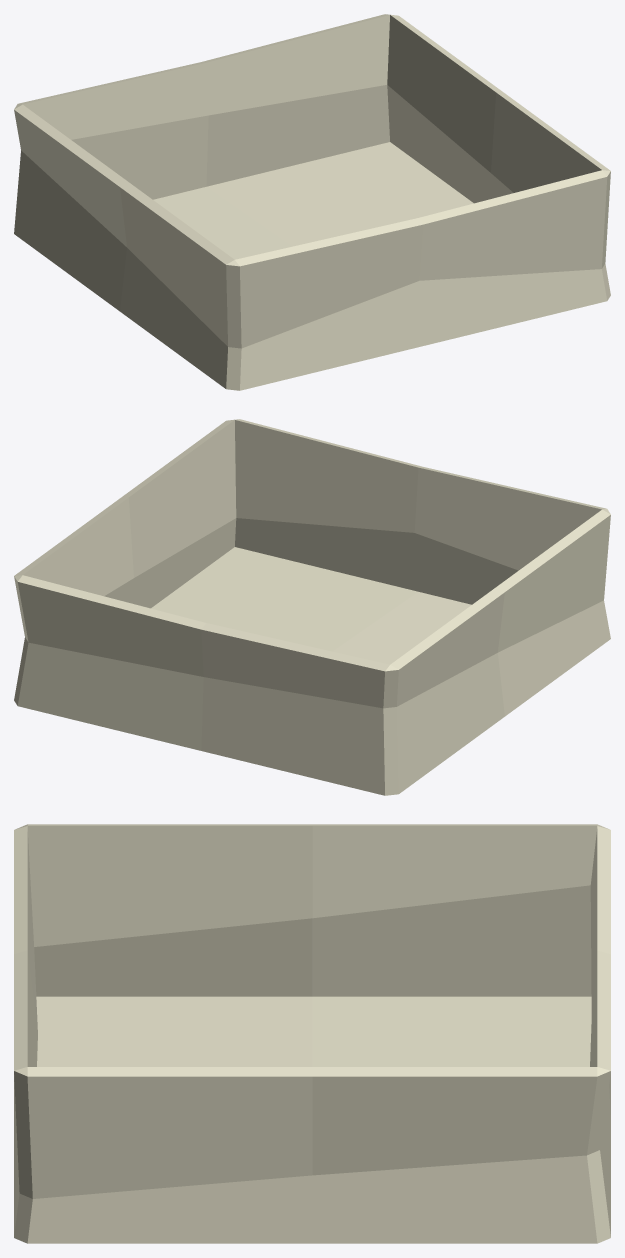
3 views of the same model, one above another, from view 1: azimuth 30°, elevation 25°; view 2: azimuth 150°, elevation 25°; view 3: azimuth 270°, elevation 25° (orthographic). The views are drawn at different scales.
Visible parts, largest first — view 1: Box1; view 2: Box1; view 3: Box1.
Boxes of the visible parts, x1=… form: Box1: x1=14, y1=14, x2=610, y2=390; Box1: x1=14, y1=419, x2=610, y2=795; Box1: x1=14, y1=824, x2=610, y2=1243.
Bounding box in the file's own units: 196 × 63.43 × 196.
